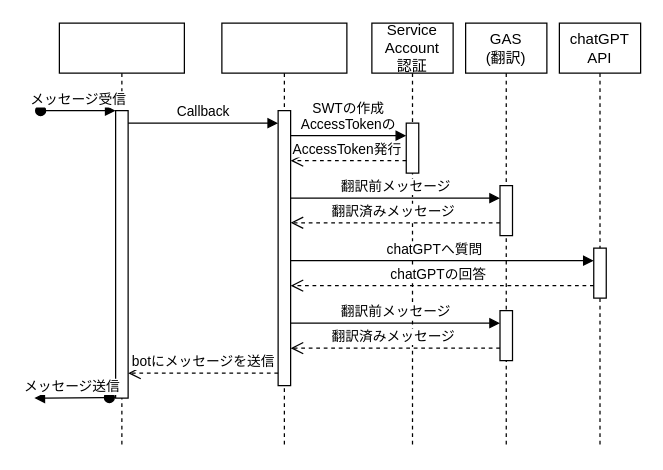
This 663x470 diagram has some shape labels left out. Each missing label, with the box of its shape:
LINEWORKS: (58, 22, 184, 448)
サーバー: (221, 22, 347, 448)
